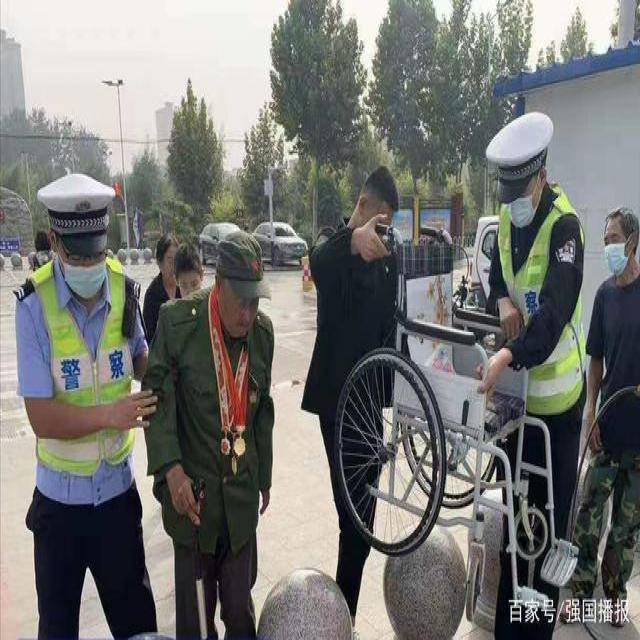wheelchairs: (328, 218, 584, 598)
